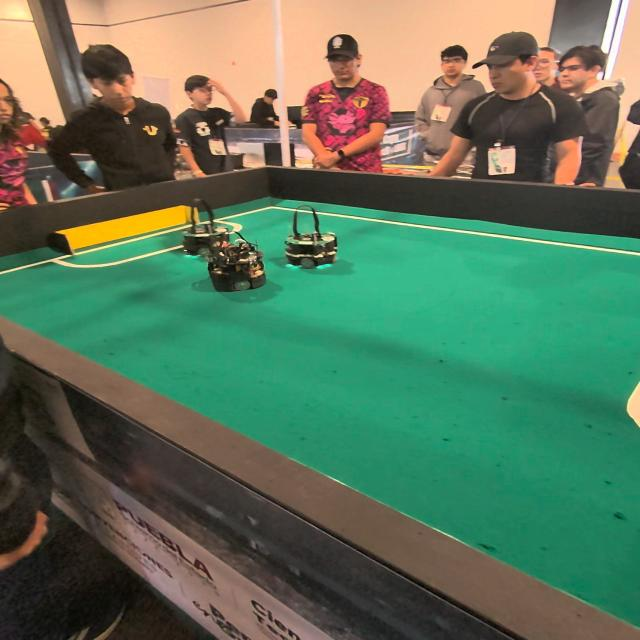Robot: (206, 230, 276, 294), (286, 202, 339, 273), (170, 196, 228, 255)
